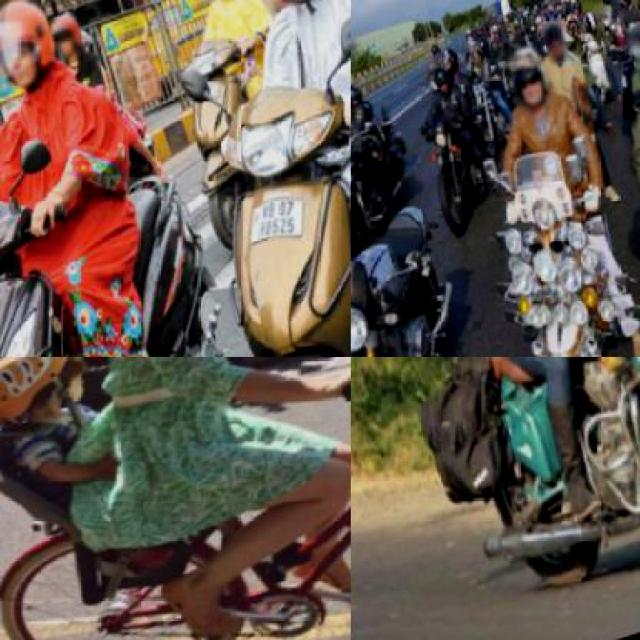With Helmet: (0, 357, 103, 451), (0, 0, 63, 105), (502, 41, 563, 136), (237, 0, 343, 28), (50, 15, 87, 68), (426, 65, 457, 108), (436, 46, 467, 88), (192, 0, 243, 14), (351, 74, 358, 124)
Without Helmet: (542, 24, 572, 76)
